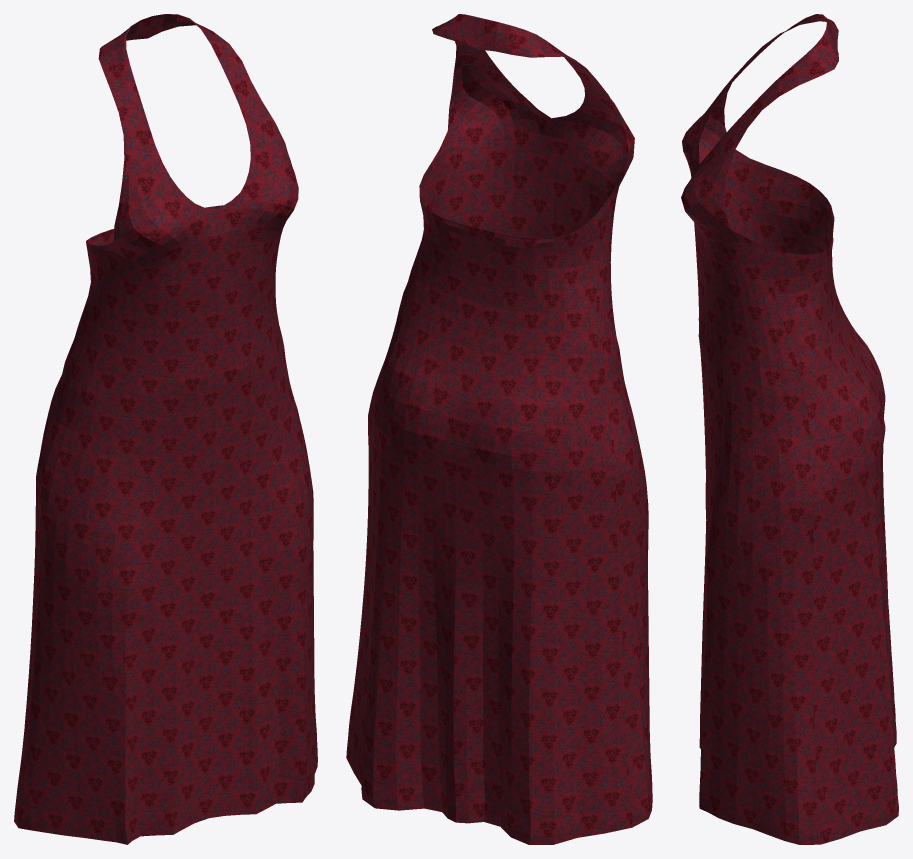
Rendered from garment.glb.
3 renders of one model, left to right at view 1: azimuth 30°, elevation 25°; view 2: azimuth 150°, elevation 25°; view 3: azimuth 270°, elevation 25°, orthographic. The views are drawn at different scales.
Visible parts, largest first — view 1: garment; view 2: garment; view 3: garment.
Part boxes in pixels (bbox=[...]): garment: bbox=[14, 14, 317, 844]; garment: bbox=[346, 14, 652, 844]; garment: bbox=[681, 14, 898, 844].
Bounding box in the file's own units: 4.35 × 10.87 × 2.83.
1 material, 1 textured.
